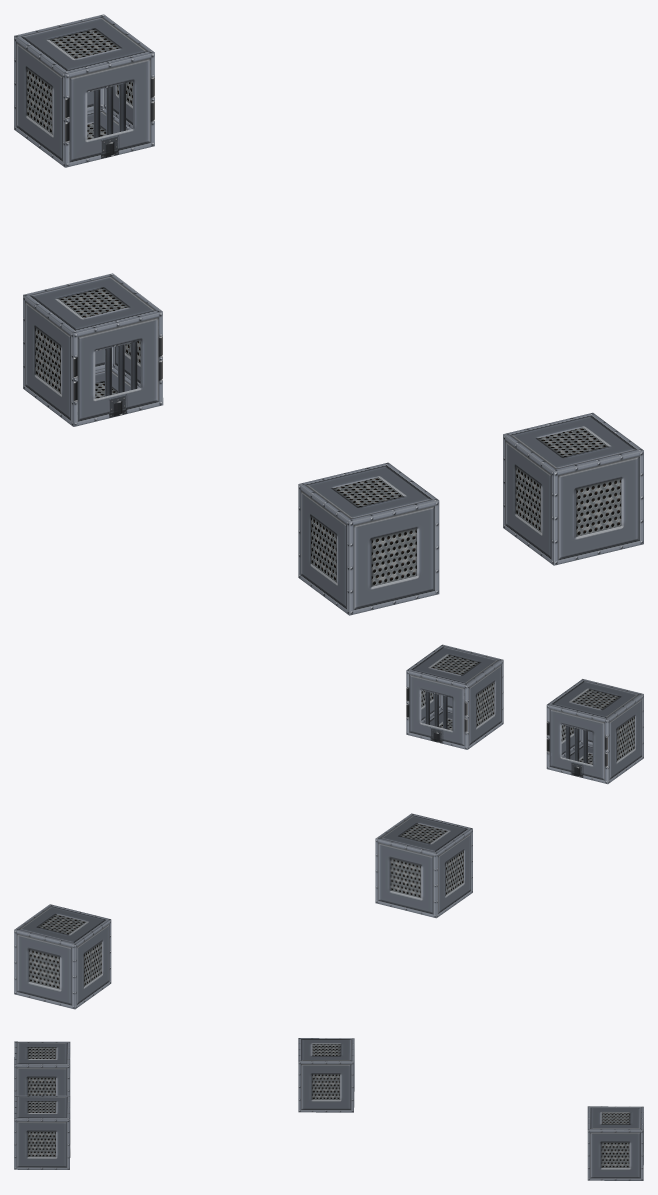
3 views of the same model, one above another, from view 1: azimuth 30°, elevation 25°; view 2: azimuth 150°, elevation 25°; view 3: azimuth 270°, elevation 25° (orthographic). The views are drawn at different scales.
Visible parts, largest first — view 1: Box25; view 2: Box25; view 3: Box25.
Boxes of the visible parts, box(x1,y1,x2,y2) form: Box25: box(14, 14, 643, 615); Box25: box(14, 644, 643, 1009); Box25: box(14, 1038, 643, 1180).
Size of the model in its own units: 1188 by 305 by 3429.
3 materials, 3 textured.
